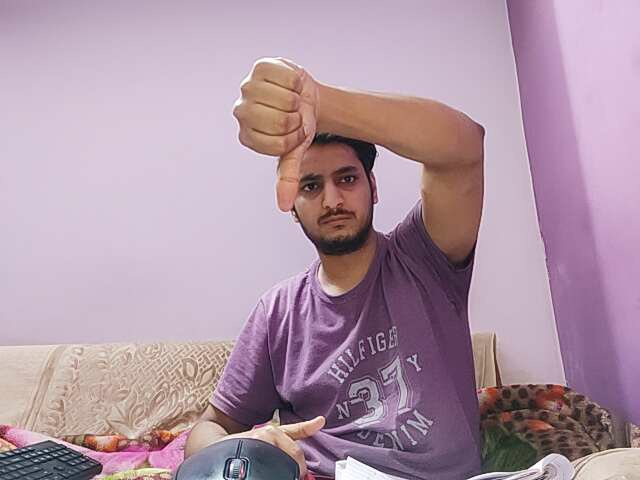ThumbsDown: (212, 46, 326, 217)
